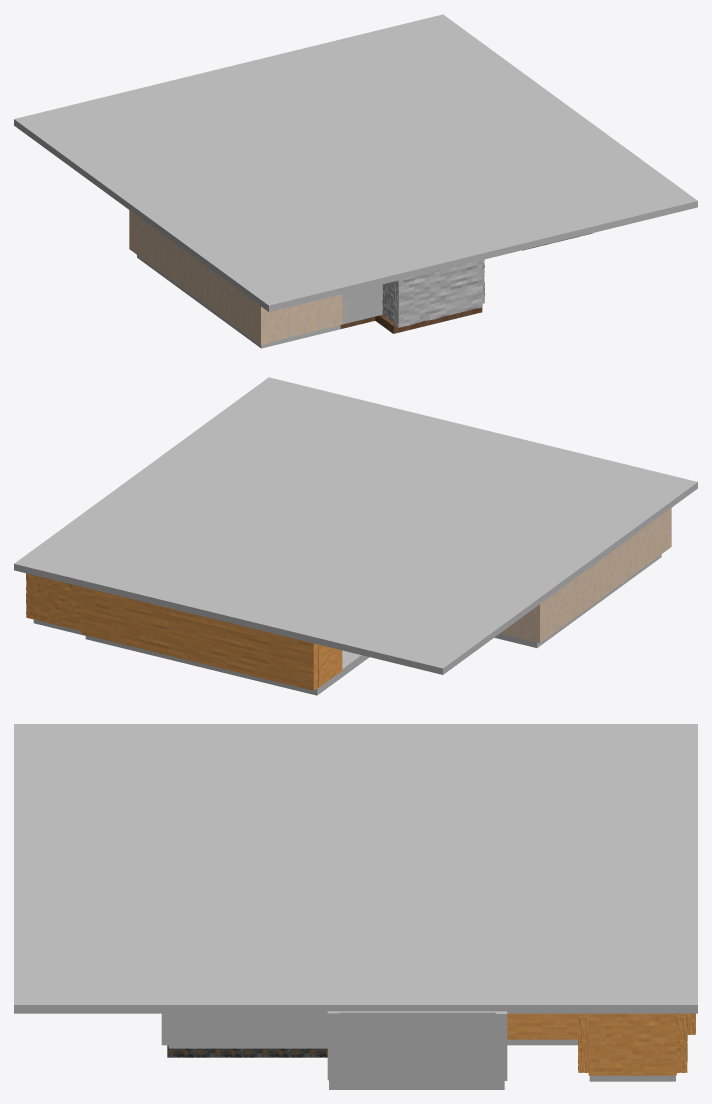
Rendered from ordem.fbx.
3 views of the same model, one above another, from view 1: azimuth 30°, elevation 25°; view 2: azimuth 150°, elevation 25°; view 3: azimuth 270°, elevation 25° (orthographic). The views are drawn at different scales.
Visible parts, largest first — view 1: Cube.013, Cube.072, Cube.059, Cube.073, Cube.044, chaoMedico, chaoReuniao; view 2: Cube.013, Cube.015, Cube.072, Cube.032, chaoEntrada, Cube.017, chaoMedico, Cube.074; view 3: Cube.013, Cube.062, Cube.064, Cube.031, Cube.028, chaoArmamento, chaoOcultismo, Cube.041, Cube.063, Cube.032, Cube.033, chaoBanheiro.
Part boxes in pixels (box(x1,y1,x2,y2)): Cube.013: box(14, 14, 697, 311); Cube.072: box(129, 210, 268, 345); Cube.059: box(394, 260, 482, 327); Cube.073: box(268, 294, 345, 342); Cube.044: box(342, 284, 382, 324); chaoMedico: box(137, 255, 340, 348); chaoReuniao: box(375, 307, 482, 333); Cube.013: box(14, 377, 697, 674); Cube.015: box(81, 586, 317, 690); Cube.072: box(532, 508, 671, 643); Cube.032: box(26, 573, 81, 630); chaoEntrada: box(85, 635, 369, 695); Cube.017: box(317, 644, 342, 687); chaoMedico: box(494, 554, 661, 647); Cube.074: box(500, 610, 532, 640); Cube.013: box(14, 724, 697, 1013); Cube.062: box(339, 1011, 496, 1079); Cube.064: box(168, 1013, 327, 1048); Cube.031: box(588, 1013, 676, 1075); Cube.028: box(507, 1013, 577, 1039); chaoArmamento: box(329, 1079, 504, 1089); chaoOcultismo: box(167, 1045, 327, 1057); Cube.041: box(327, 1011, 339, 1080); Cube.063: box(495, 1011, 507, 1080); Cube.032: box(676, 1013, 687, 1072); Cube.033: box(578, 1013, 588, 1072); chaoBanheiro: box(589, 1075, 675, 1081).
Bounding box in the file's own units: 11324 × 1565 × 11549.
